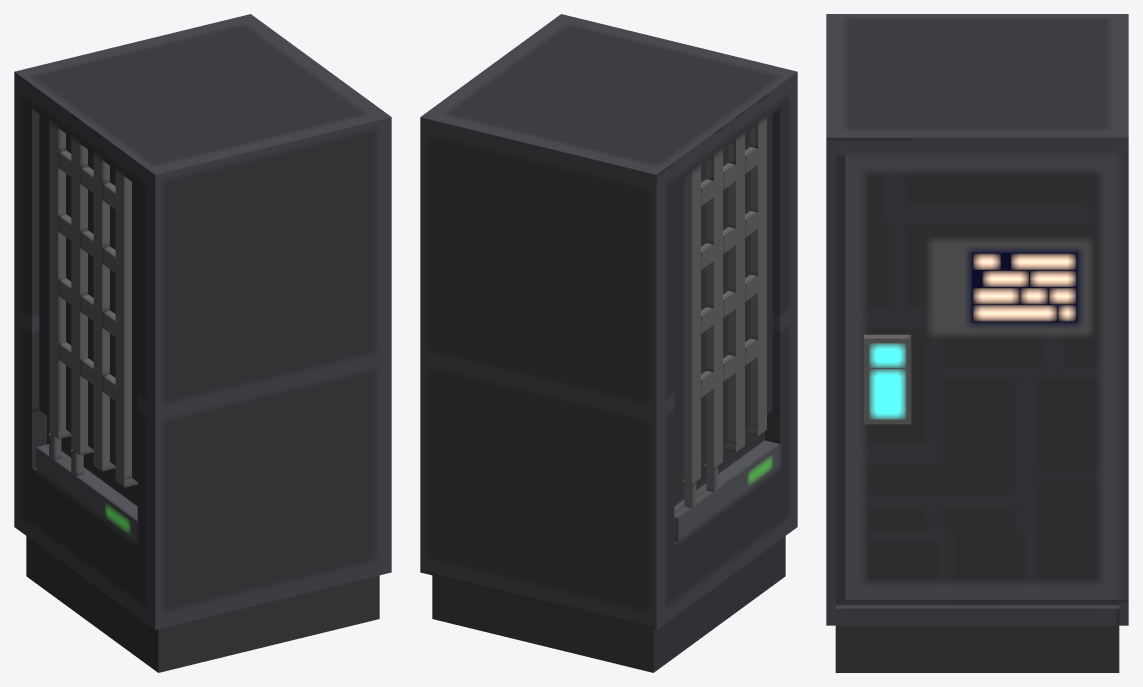
The model's file is lodowka.dae.
The picture shows the model from 3 angles, left to right: view 1: azimuth 30°, elevation 25°; view 2: azimuth 150°, elevation 25°; view 3: azimuth 270°, elevation 25°; orthographic projection. The views are drawn at different scales.
Visible parts, largest first — view 1: Content; view 2: Content; view 3: Content.
Boxes of the visible parts, bbox=[...] form: Content: bbox=[14, 14, 391, 672]; Content: bbox=[420, 14, 797, 672]; Content: bbox=[826, 14, 1128, 672].
Bounding box in the file's own units: 32 × 63 × 32.
Materials: 1 (1 with a texture image).
